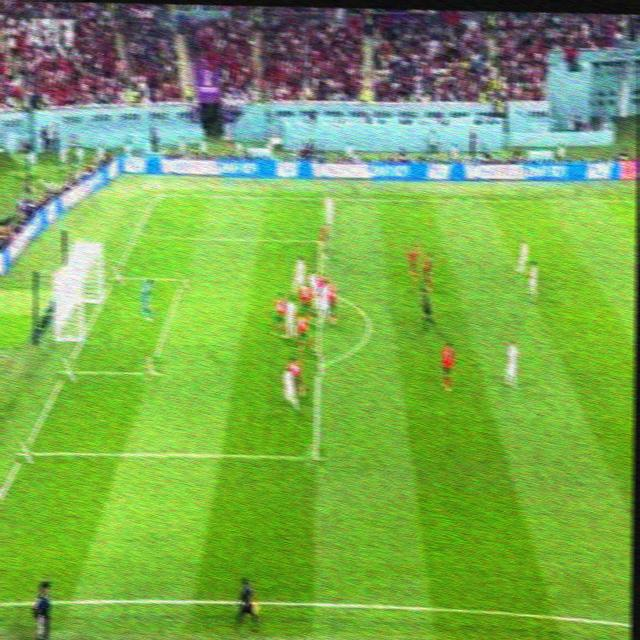bigarea_bottom_inner: (305, 444, 327, 467)
bigarea_bottom_outter: (16, 442, 33, 463)
bigarea_top_inner: (316, 232, 330, 250)
bigarea_top_outter: (132, 227, 145, 243)
bottom_arc_area_intersection: (311, 355, 328, 376)
corner: (151, 187, 166, 201)
smallarea_bottom_inner: (142, 356, 162, 384)
smallarea_bottom_outter: (59, 357, 77, 382)
smallarea_top_inner: (175, 269, 192, 288)
smallarea_top_outter: (109, 266, 124, 285)
